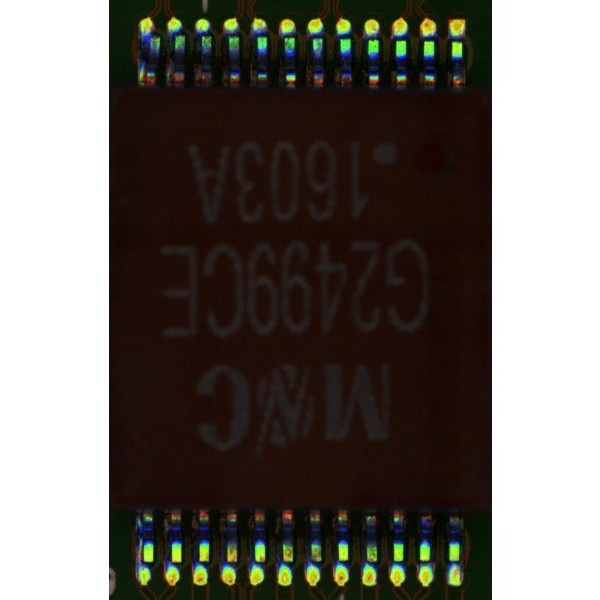Bad_qiaojiao: (136, 523, 142, 562)
